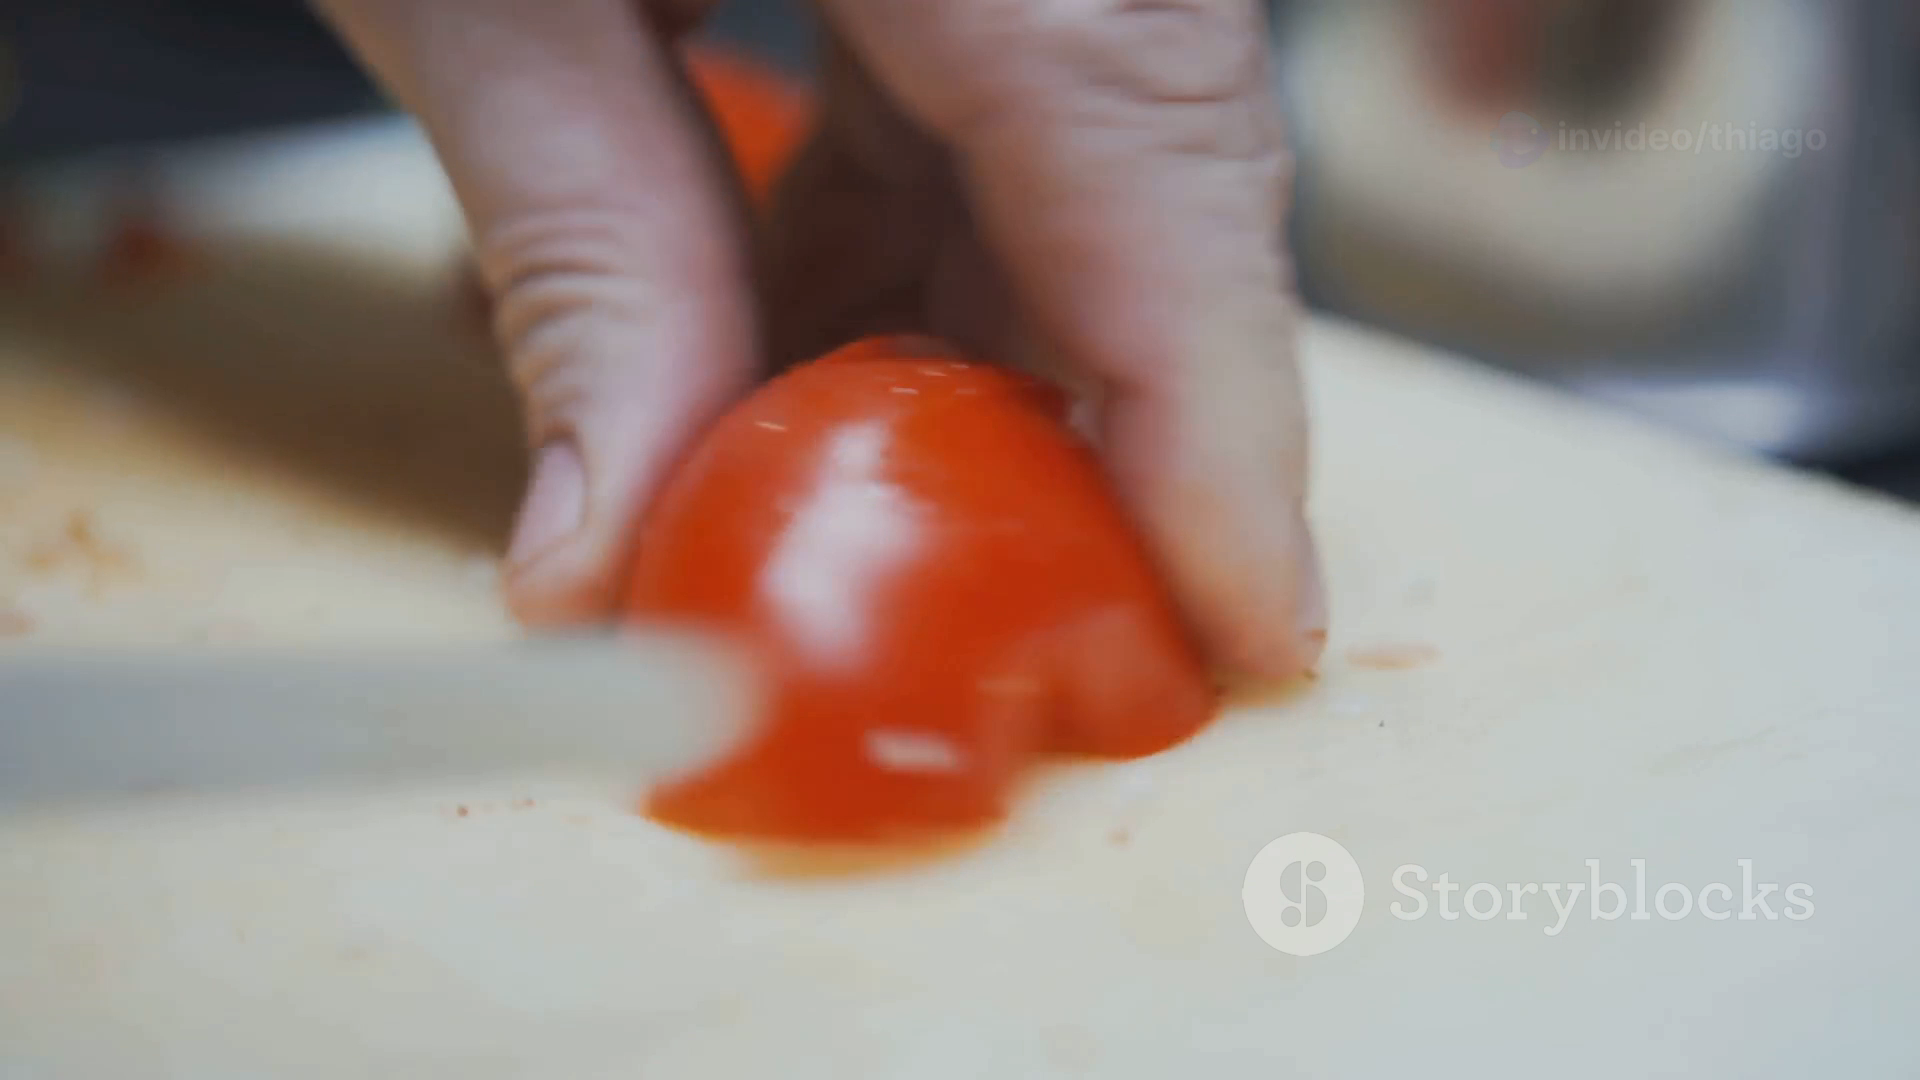cortante: (0, 629, 771, 827)
